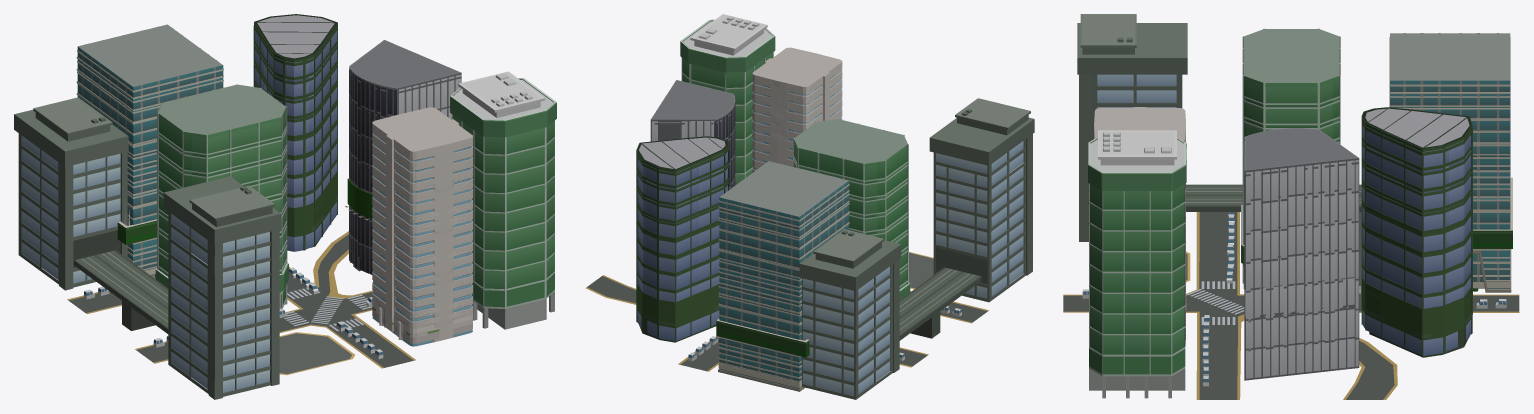
3 views of the same model, side by side, from view 1: azimuth 30°, elevation 25°; view 2: azimuth 150°, elevation 25°; view 3: azimuth 270°, elevation 25° (orthographic). The views are drawn at different scales.
Parts seen in each view (by area): view 1: Plane.007, midTokyo, baseTokyo, topTokyo, Plane.002, road.001; view 2: Plane.007, midTokyo, topTokyo, baseTokyo, Plane.002; view 3: Plane.007, midTokyo, baseTokyo, topTokyo, road.001.
Part boxes in pixels (box(x1,y1,x2,y2)): Plane.007: box(14, 25, 556, 399); midTokyo: box(76, 14, 472, 337); baseTokyo: box(67, 231, 415, 368); topTokyo: box(117, 171, 472, 343); Plane.002: box(279, 332, 354, 375); road.001: box(284, 288, 372, 331); Plane.007: box(636, 14, 1034, 399); midTokyo: box(636, 47, 908, 378); topTokyo: box(636, 282, 910, 388); baseTokyo: box(585, 275, 988, 371); Plane.002: box(909, 252, 933, 289); Plane.007: box(1077, 14, 1511, 398); midTokyo: box(1094, 28, 1510, 377); baseTokyo: box(1063, 212, 1519, 399); topTokyo: box(1185, 177, 1512, 377); road.001: box(1186, 281, 1360, 324).
Size of the model in its own units: 0.9999 by 0.5738 by 1.
